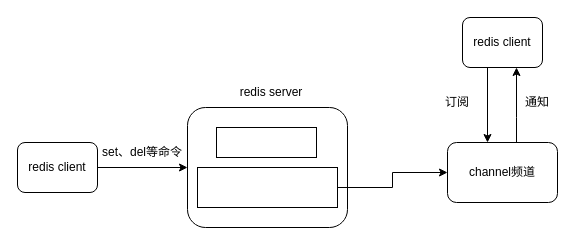
Some shapes in this 585 by 245 pixel diagram are drawn without their labels. The shapes that lost their labels are listed below. From the top down, each one's centre as x and y in pixels, then its label:
At pixel 266 142: "key执行相关命令".
At pixel 267 187: "notifyKeySpaceEvent 函数".
